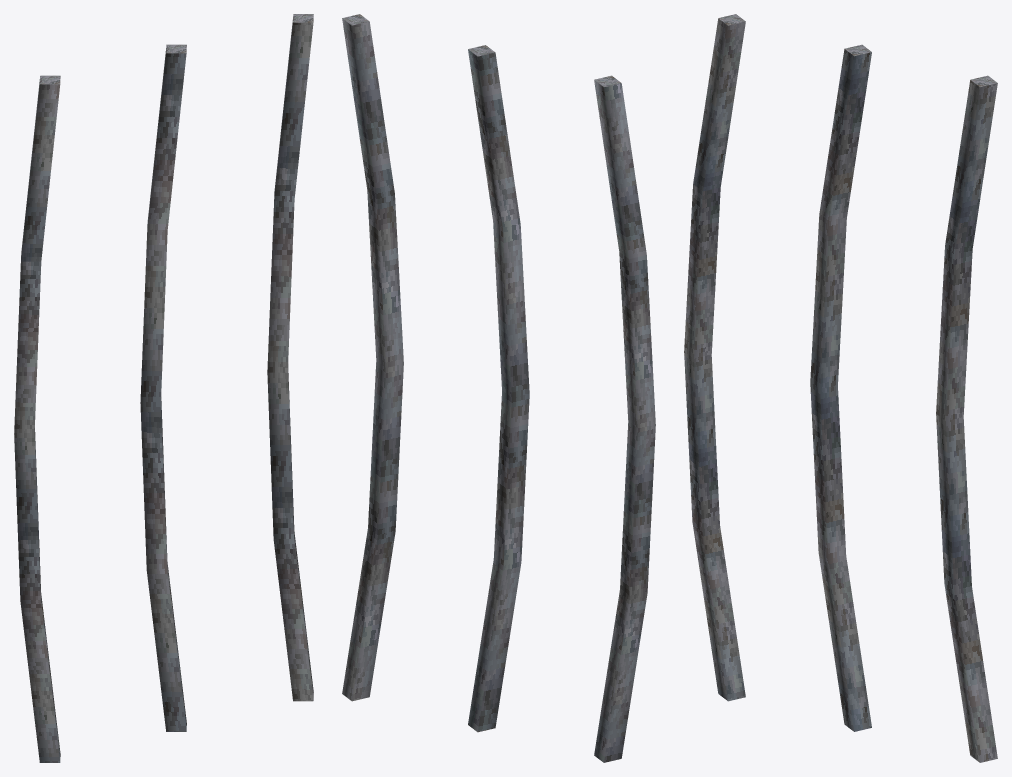
Rendered from EKH_JAIL_ANIM_JA_DUMB_GATE2__AI.fbx.
3 views of the same model, side by side, from view 1: azimuth 30°, elevation 25°; view 2: azimuth 150°, elevation 25°; view 3: azimuth 330°, elevation 25° (orthographic).
Visible parts, largest first — view 1: EKH_JAIL_ANIM_JA_DUMB_GATE2__AI; view 2: EKH_JAIL_ANIM_JA_DUMB_GATE2__AI; view 3: EKH_JAIL_ANIM_JA_DUMB_GATE2__AI.
Part boxes in pixels (x1,y1,x2,y2): EKH_JAIL_ANIM_JA_DUMB_GATE2__AI: (14,14,313,762); EKH_JAIL_ANIM_JA_DUMB_GATE2__AI: (342,14,655,762); EKH_JAIL_ANIM_JA_DUMB_GATE2__AI: (684,14,997,762).
Size of the model in its own units: 7373 by 15551 by 774.
1 material, 1 textured.
